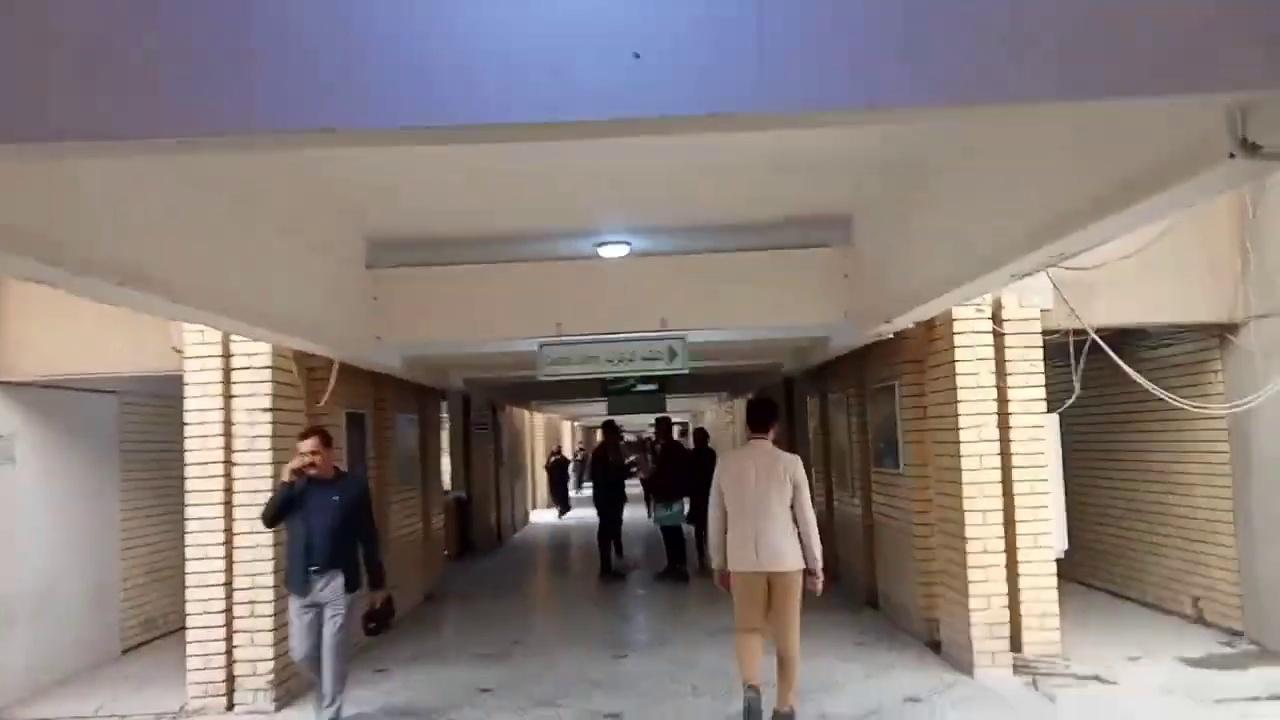person: (705, 395, 825, 719), (261, 425, 387, 719), (643, 415, 691, 583), (588, 418, 635, 581), (685, 426, 717, 575), (543, 444, 571, 518), (572, 440, 587, 495)
